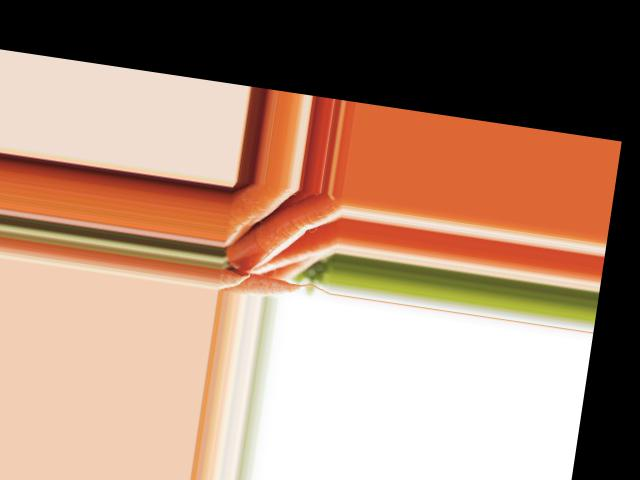carrot: (245, 219, 327, 290)
